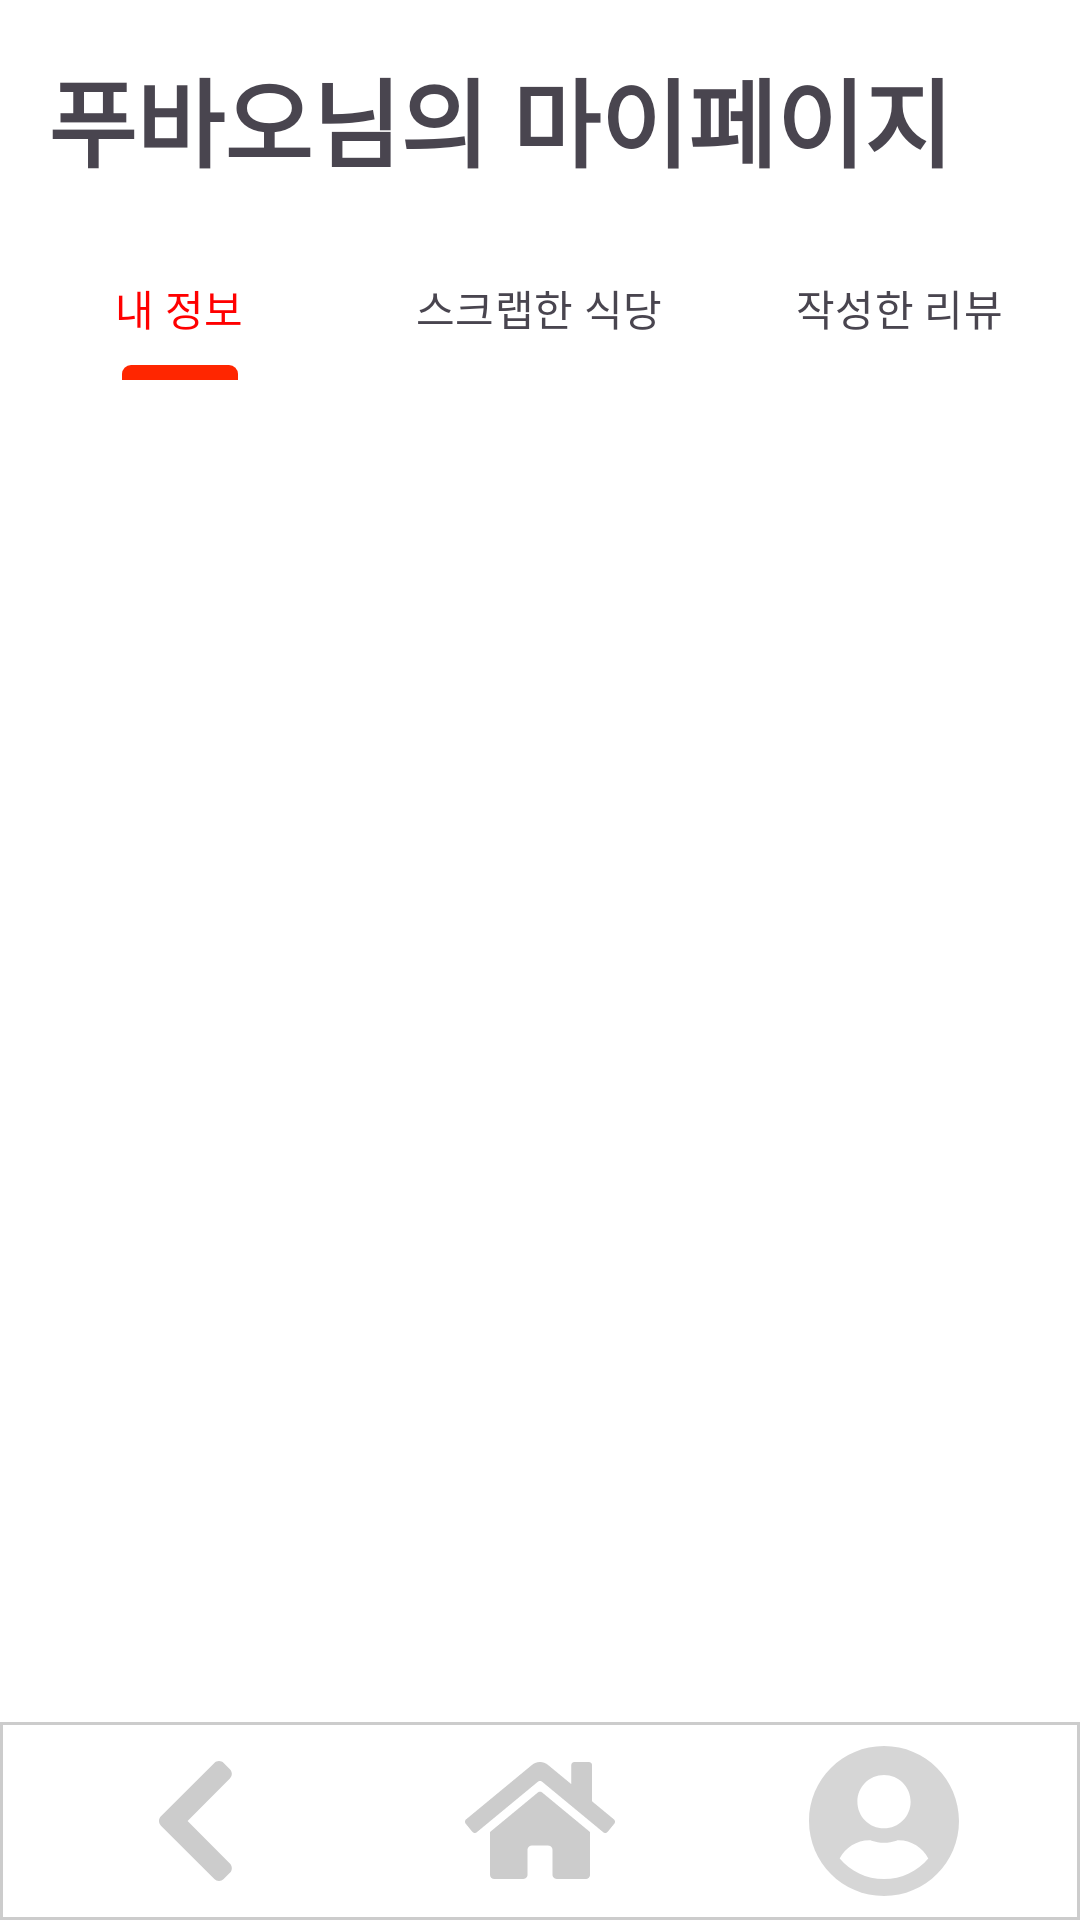

Where to tap for icons on this 1080w x 1920h app screen, as point (x, y):
Back Button: point (195, 1821)
Home Button: point (540, 1820)
My Page Button: point (884, 1821)
